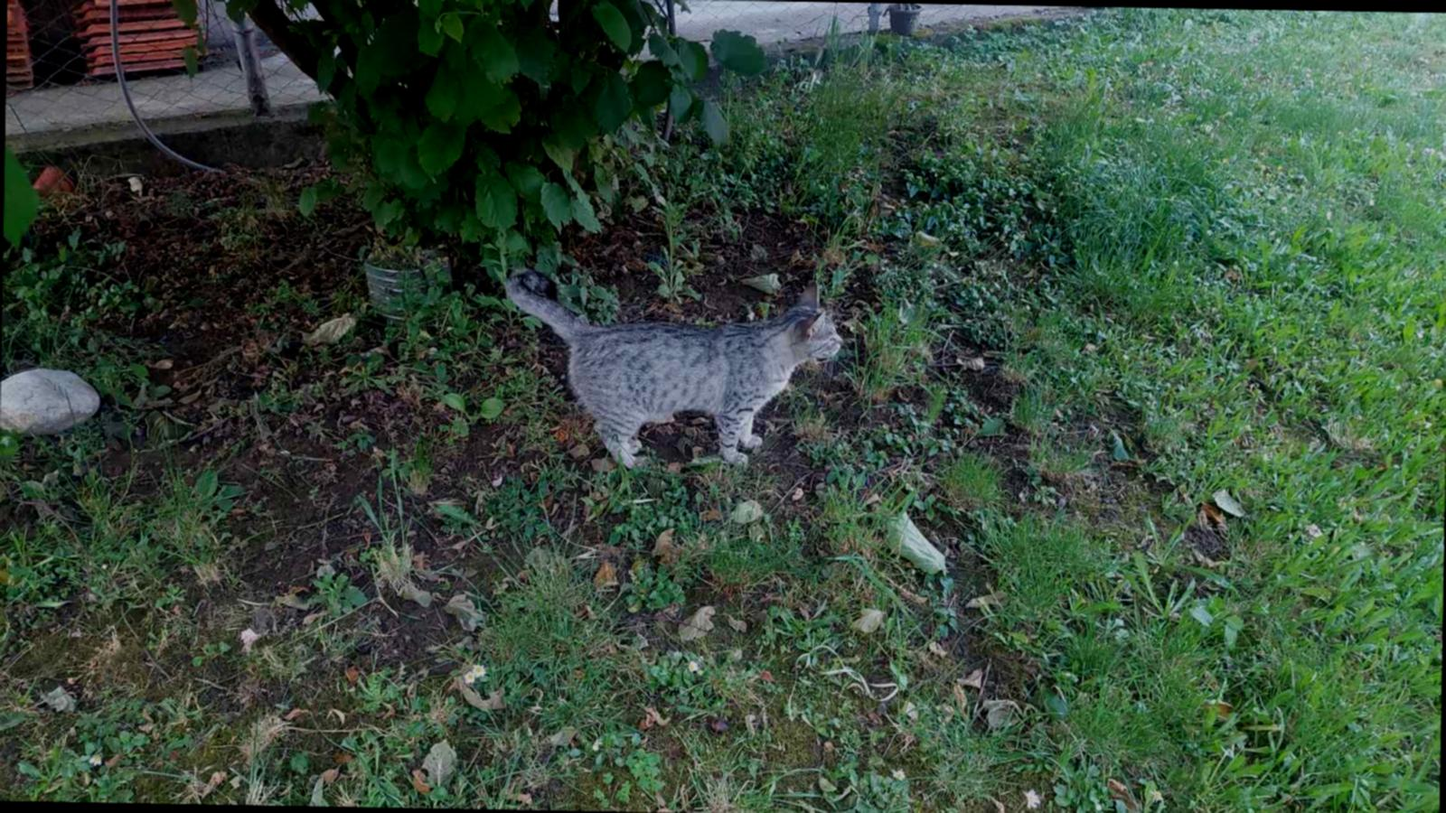macka: (502, 265, 843, 475)
